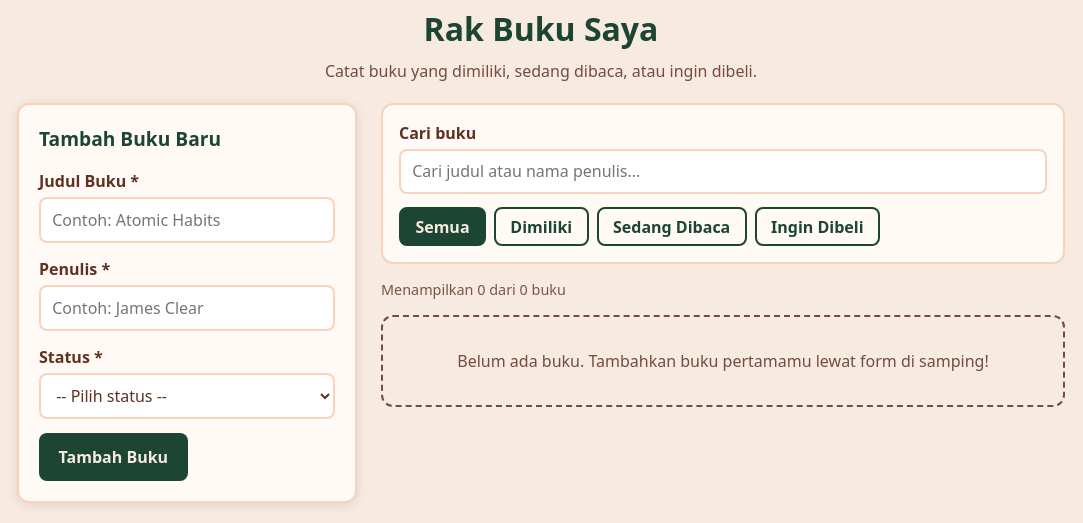
Test: Home (integrasi: Context + localStorage + komponen) › menambah buku baru: muncul di daftar dan tersimpan di localStorage
This screenshot has width=1083, height=523.
Type "Bumi" into the field labelled "Judul Buku *" at (187, 220), box [39,197,335,243]
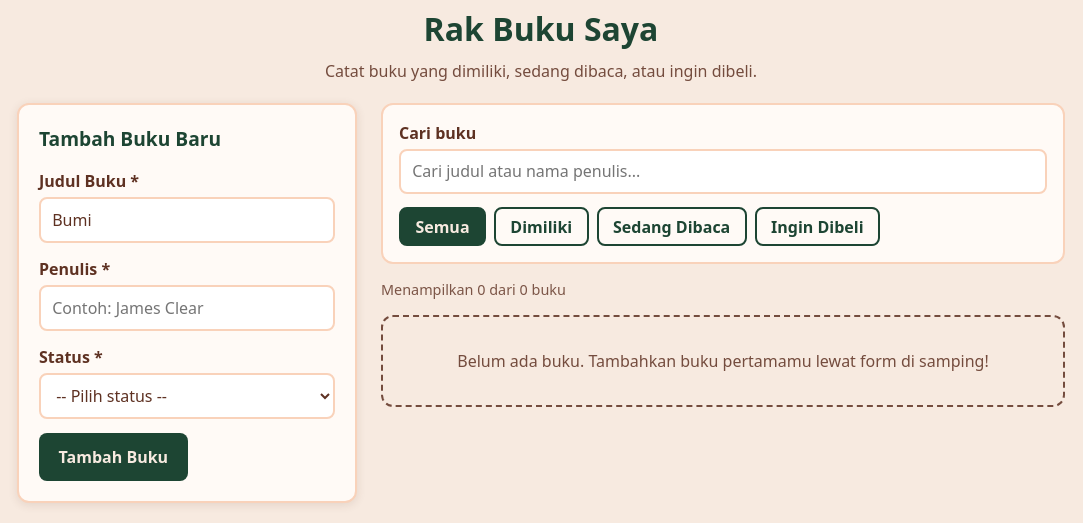
Type "Tere Liye" into the field labelled "Penulis *" at (187, 308), box [39,285,335,331]
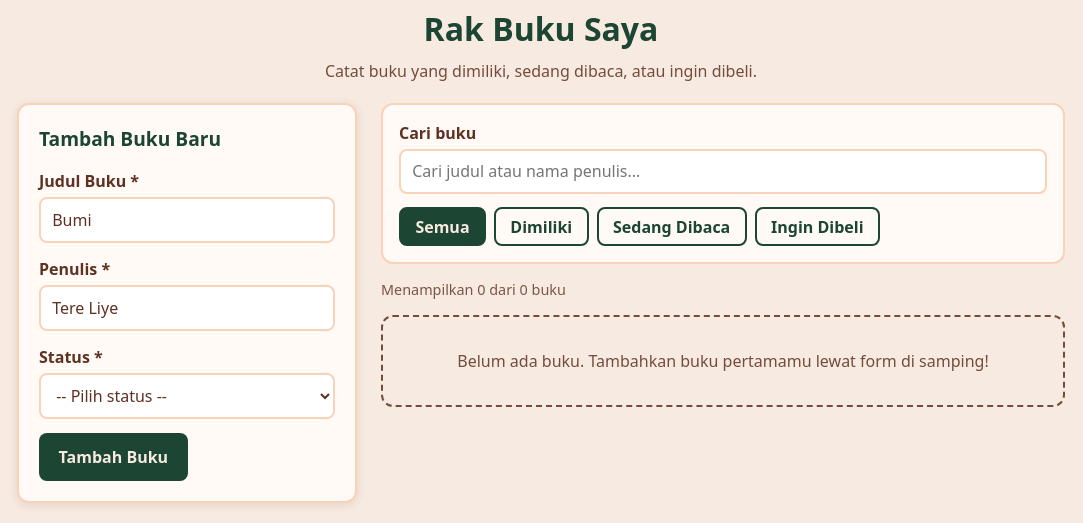
Select "Dimiliki" in the dropdown labelled "Status *" at (187, 396), box [39,373,335,419]
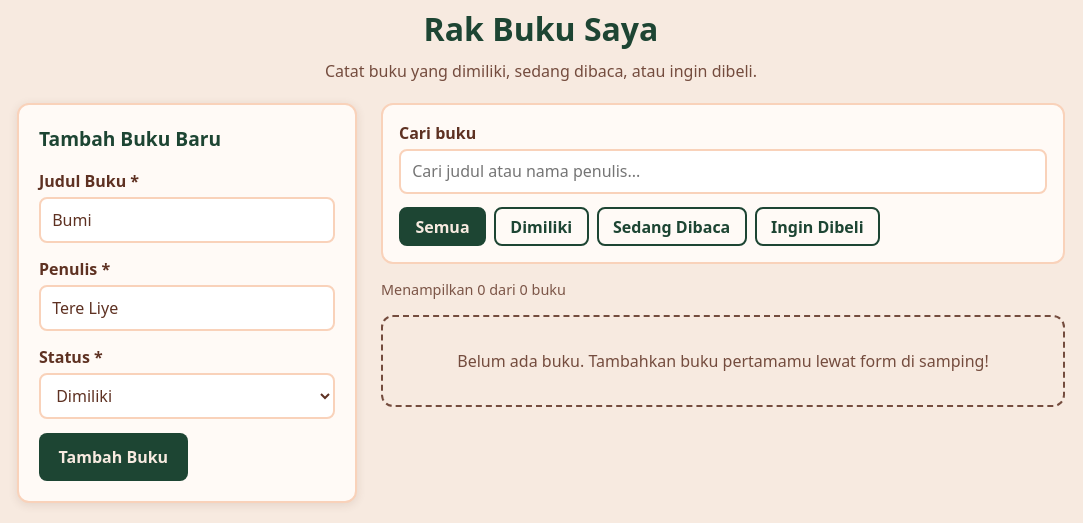
Click the button "Tambah Buku" at (113, 457), box [39,433,188,480]
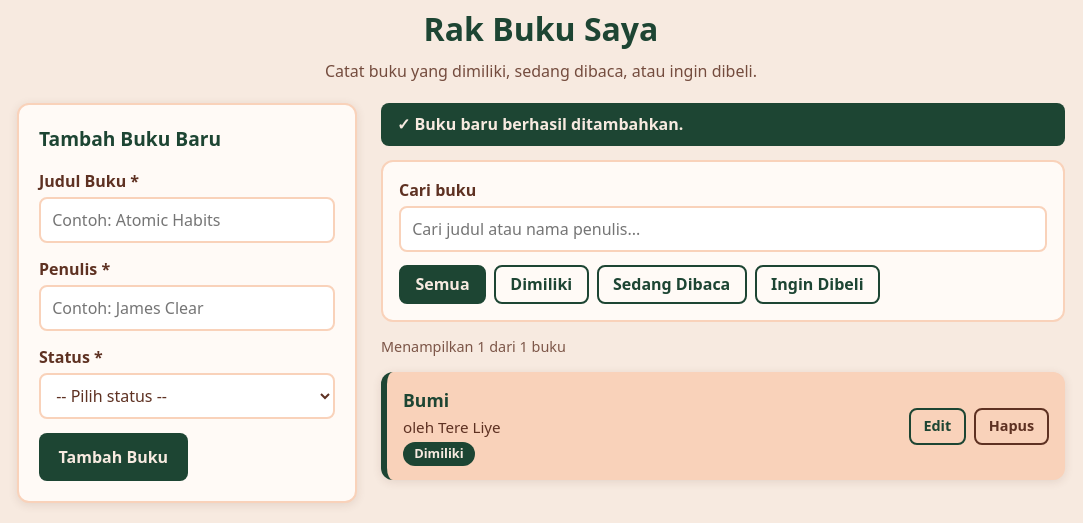
Check: the heading "Bumi" is shown, box [403,386,449,413]
